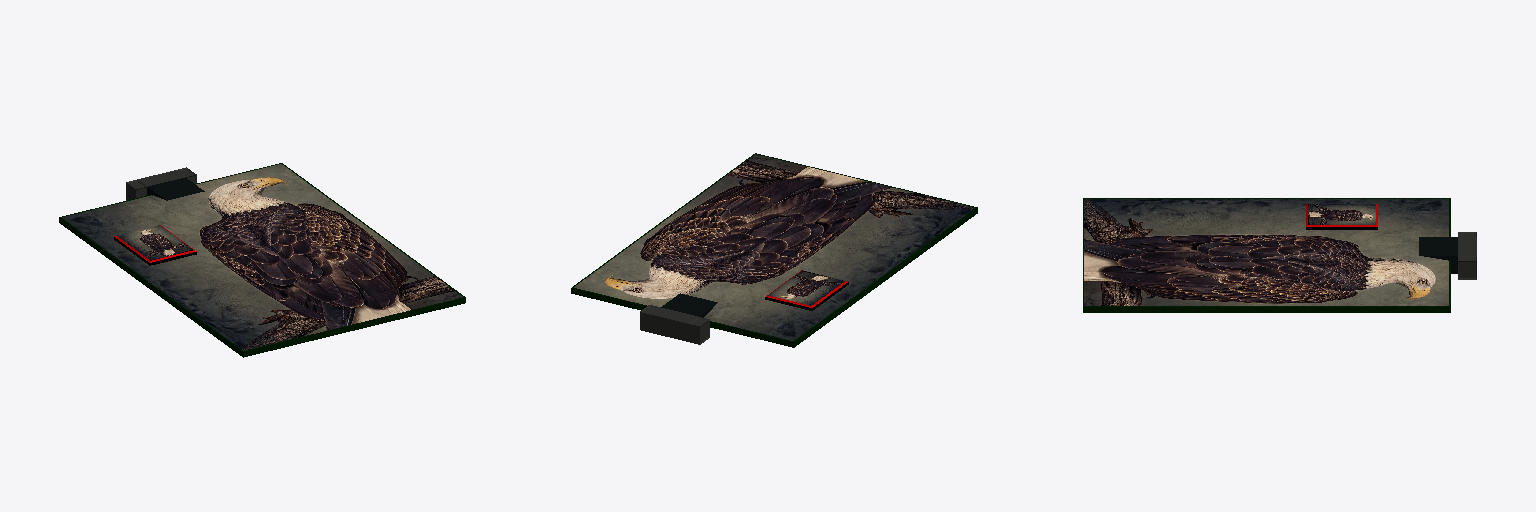
3 renders of one model, left to right at view 1: azimuth 30°, elevation 25°; view 2: azimuth 150°, elevation 25°; view 3: azimuth 270°, elevation 25°, orthographic.
Visible parts, largest first — view 1: clip_eagle_with_button; view 2: clip_eagle_with_button; view 3: clip_eagle_with_button.
Part boxes in pixels (left/top/right/bottom): clip_eagle_with_button: left=59, top=163, right=465, bottom=357; clip_eagle_with_button: left=571, top=153, right=977, bottom=347; clip_eagle_with_button: left=1083, top=198, right=1476, bottom=312.
Size of the model in its own units: 0.2144 by 0.0169 by 0.3289.
Materials: 7 (1 with a texture image).